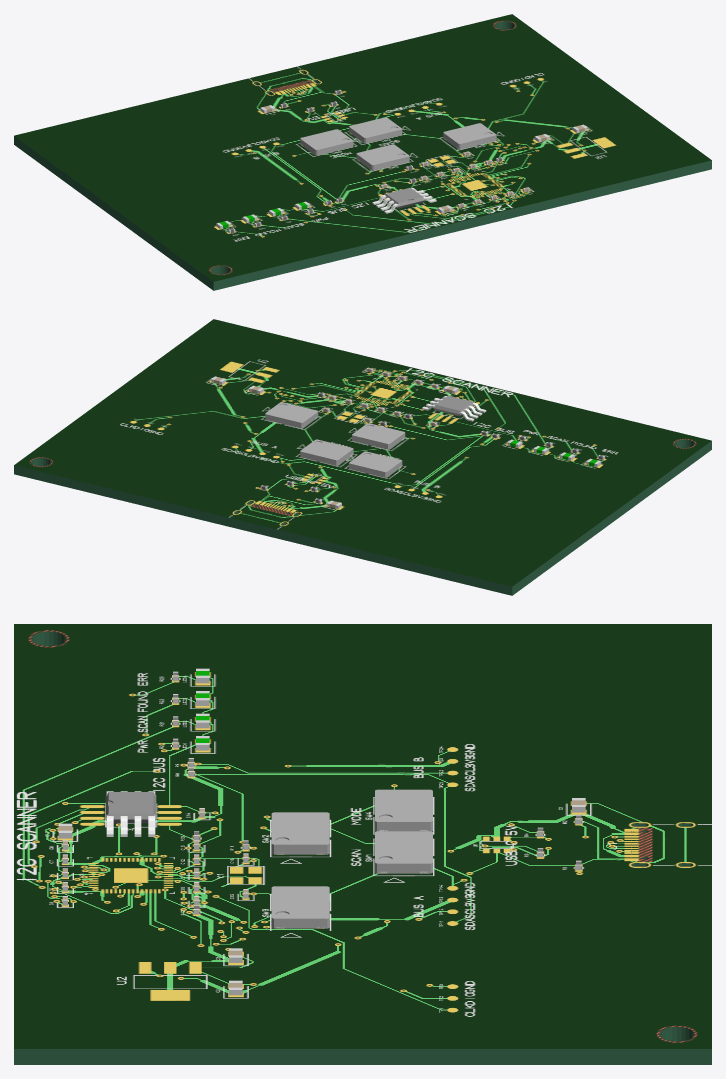
3 renders of one model, top to bottom at view 1: azimuth 30°, elevation 25°; view 2: azimuth 150°, elevation 25°; view 3: azimuth 270°, elevation 25°, orthographic. The views are drawn at different scales.
Parts seen in each view (by area): view 1: Box0, SW2, SW3, SW4, SW1, U4; view 2: Box0, SW3, SW2, SW1, SW4, U4; view 3: Box0, SW2, SW3, SW1, SW4, U4.
Part boxes in pixels (x1,y1,x2,y2): Box0: (14,14,711,290); SW2: (356,144,409,170); SW3: (443,123,496,149); SW4: (300,129,353,155); SW1: (349,117,402,143); U4: (372,187,436,213); Box0: (14,319,711,595); SW3: (265,402,318,428); SW2: (352,423,405,449); SW1: (300,439,353,465); SW4: (349,451,402,477); U4: (422,395,486,421); Box0: (14,624,711,1064); SW2: (271,812,329,854); SW3: (271,886,329,928); SW1: (375,831,432,873); SW4: (375,789,432,831); U4: (105,791,156,836).
Bounding box in the file's own units: 91.9 × 2.88 × 63.8.
10 materials, 2 textured.
